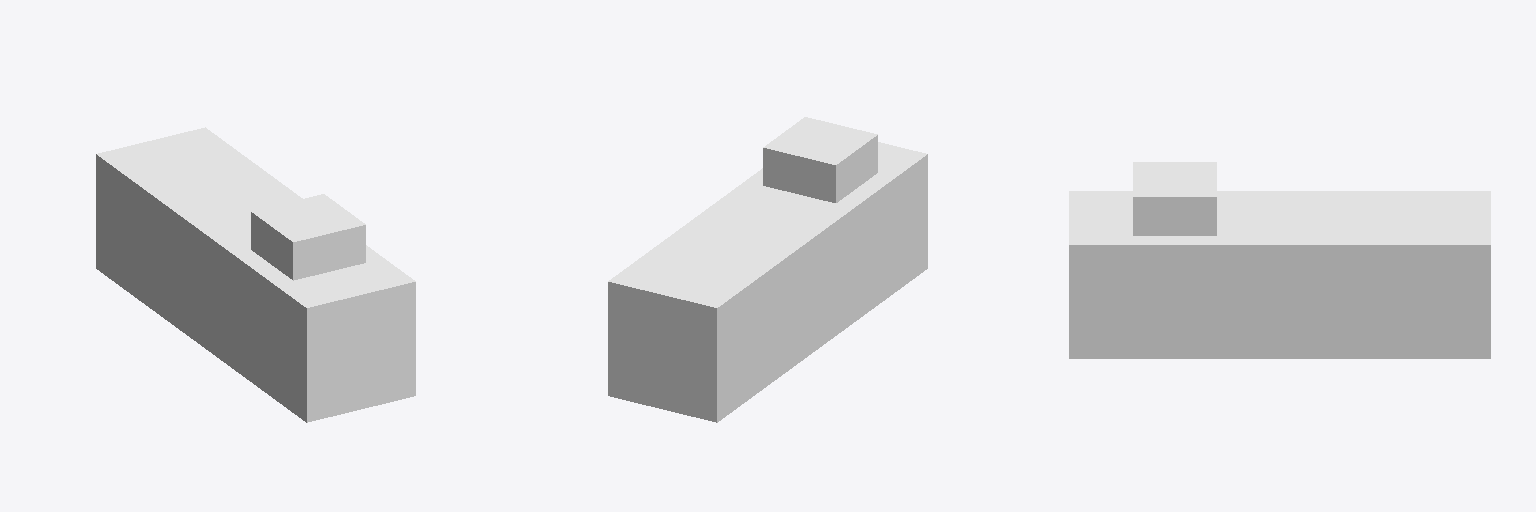
The model's file is Log.obj.
3 renders of one model, left to right at view 1: azimuth 30°, elevation 25°; view 2: azimuth 150°, elevation 25°; view 3: azimuth 270°, elevation 25°, orthographic.
Size of the model in its own units: 6 by 8 by 20.